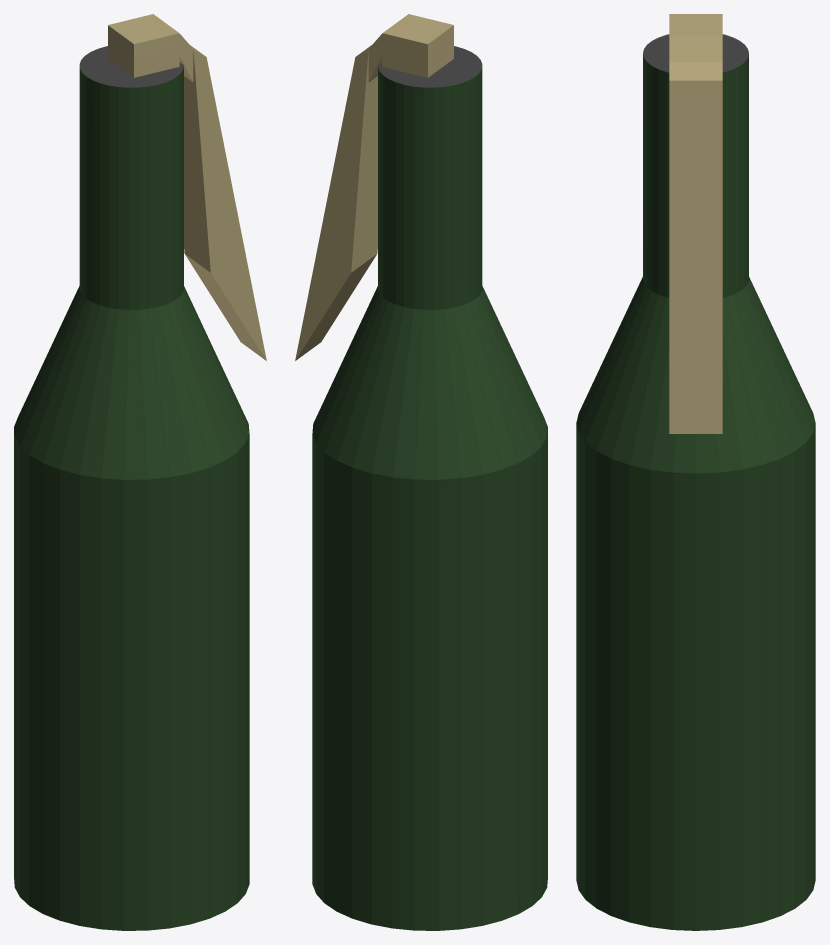
File: molotov.fbx
3 views of the same model, side by side, from view 1: azimuth 30°, elevation 25°; view 2: azimuth 150°, elevation 25°; view 3: azimuth 270°, elevation 25° (orthographic).
Parts seen in each view (by area): view 1: Cylinder; view 2: Cylinder; view 3: Cylinder.
Part boxes in pixels (x1=…): Cylinder: x1=14, y1=14, x2=266, y2=930; Cylinder: x1=295, y1=14, x2=547, y2=930; Cylinder: x1=576, y1=14, x2=815, y2=930.
Bounding box in the file's own units: 13.65 × 49.39 × 12.44.
